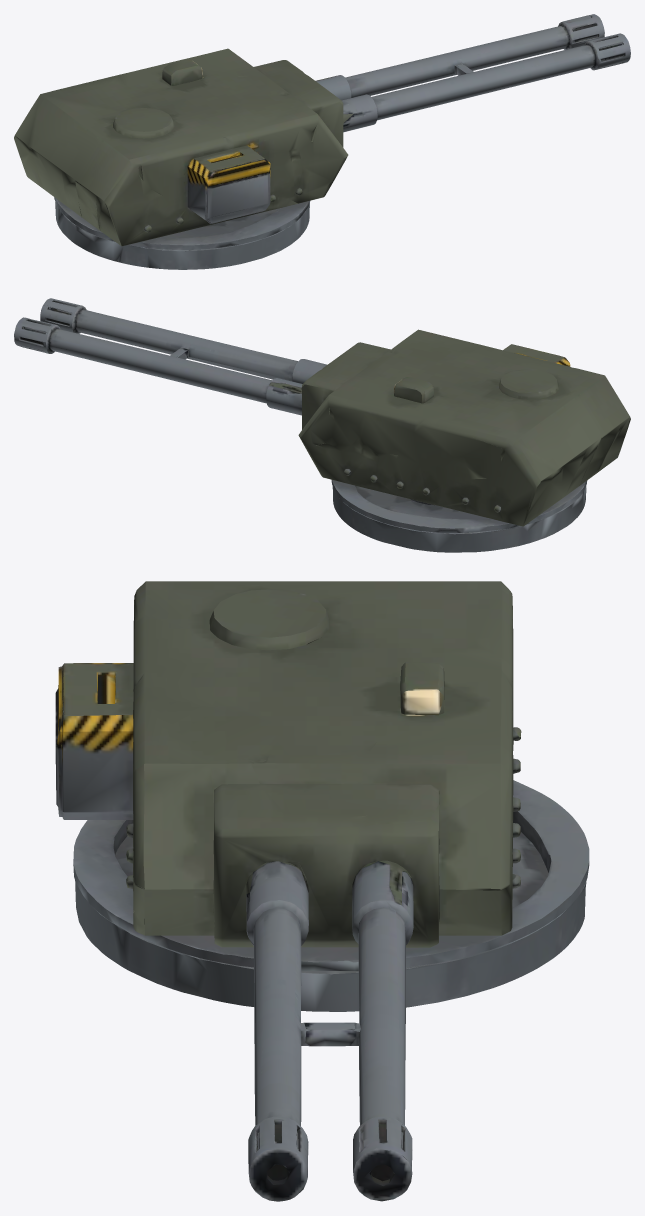
The model's file is weapon-twin-0-light.glb.
3 renders of one model, top to bottom at view 1: azimuth 30°, elevation 25°; view 2: azimuth 150°, elevation 25°; view 3: azimuth 270°, elevation 25°, orthographic. The views are drawn at different scales.
Visible parts, largest first — view 1: weapon-twin-0-light; view 2: weapon-twin-0-light; view 3: weapon-twin-0-light.
Boxes of the visible parts, x1,y1,x2,y2 form: weapon-twin-0-light: [14, 14, 630, 269]; weapon-twin-0-light: [14, 298, 630, 552]; weapon-twin-0-light: [55, 581, 589, 1201].
Bounding box in the file's own units: 2.25 × 0.5011 × 0.9448.
Materials: 1 (1 with a texture image).
